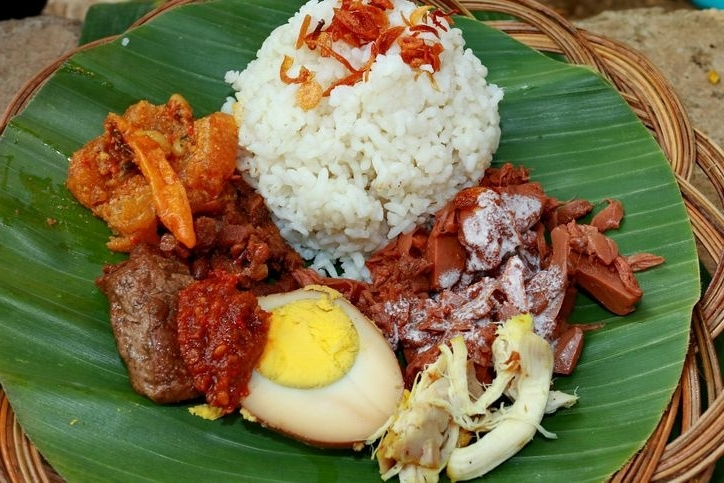gudeg: (65, 1, 658, 483)
